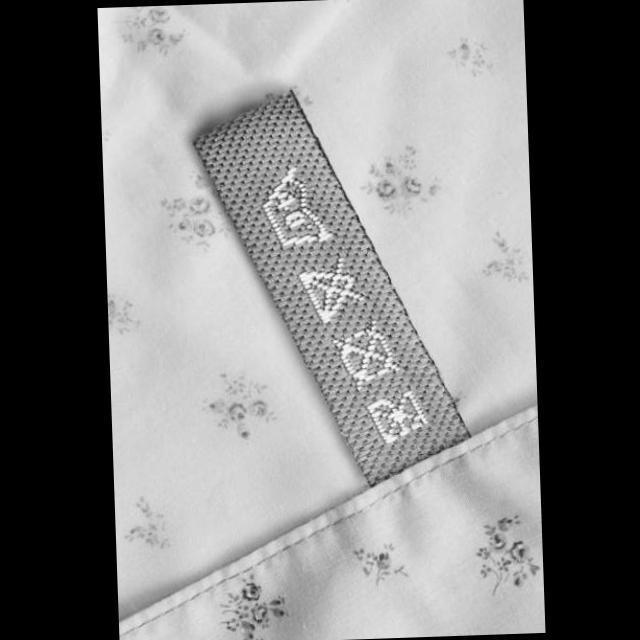40C: (253, 158, 335, 254)
DN_bleach: (290, 248, 366, 333)
DN_dry_clean: (329, 316, 404, 395)
DN_iron: (362, 384, 431, 450)
